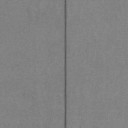surface scratch: (64, 0, 67, 128)
